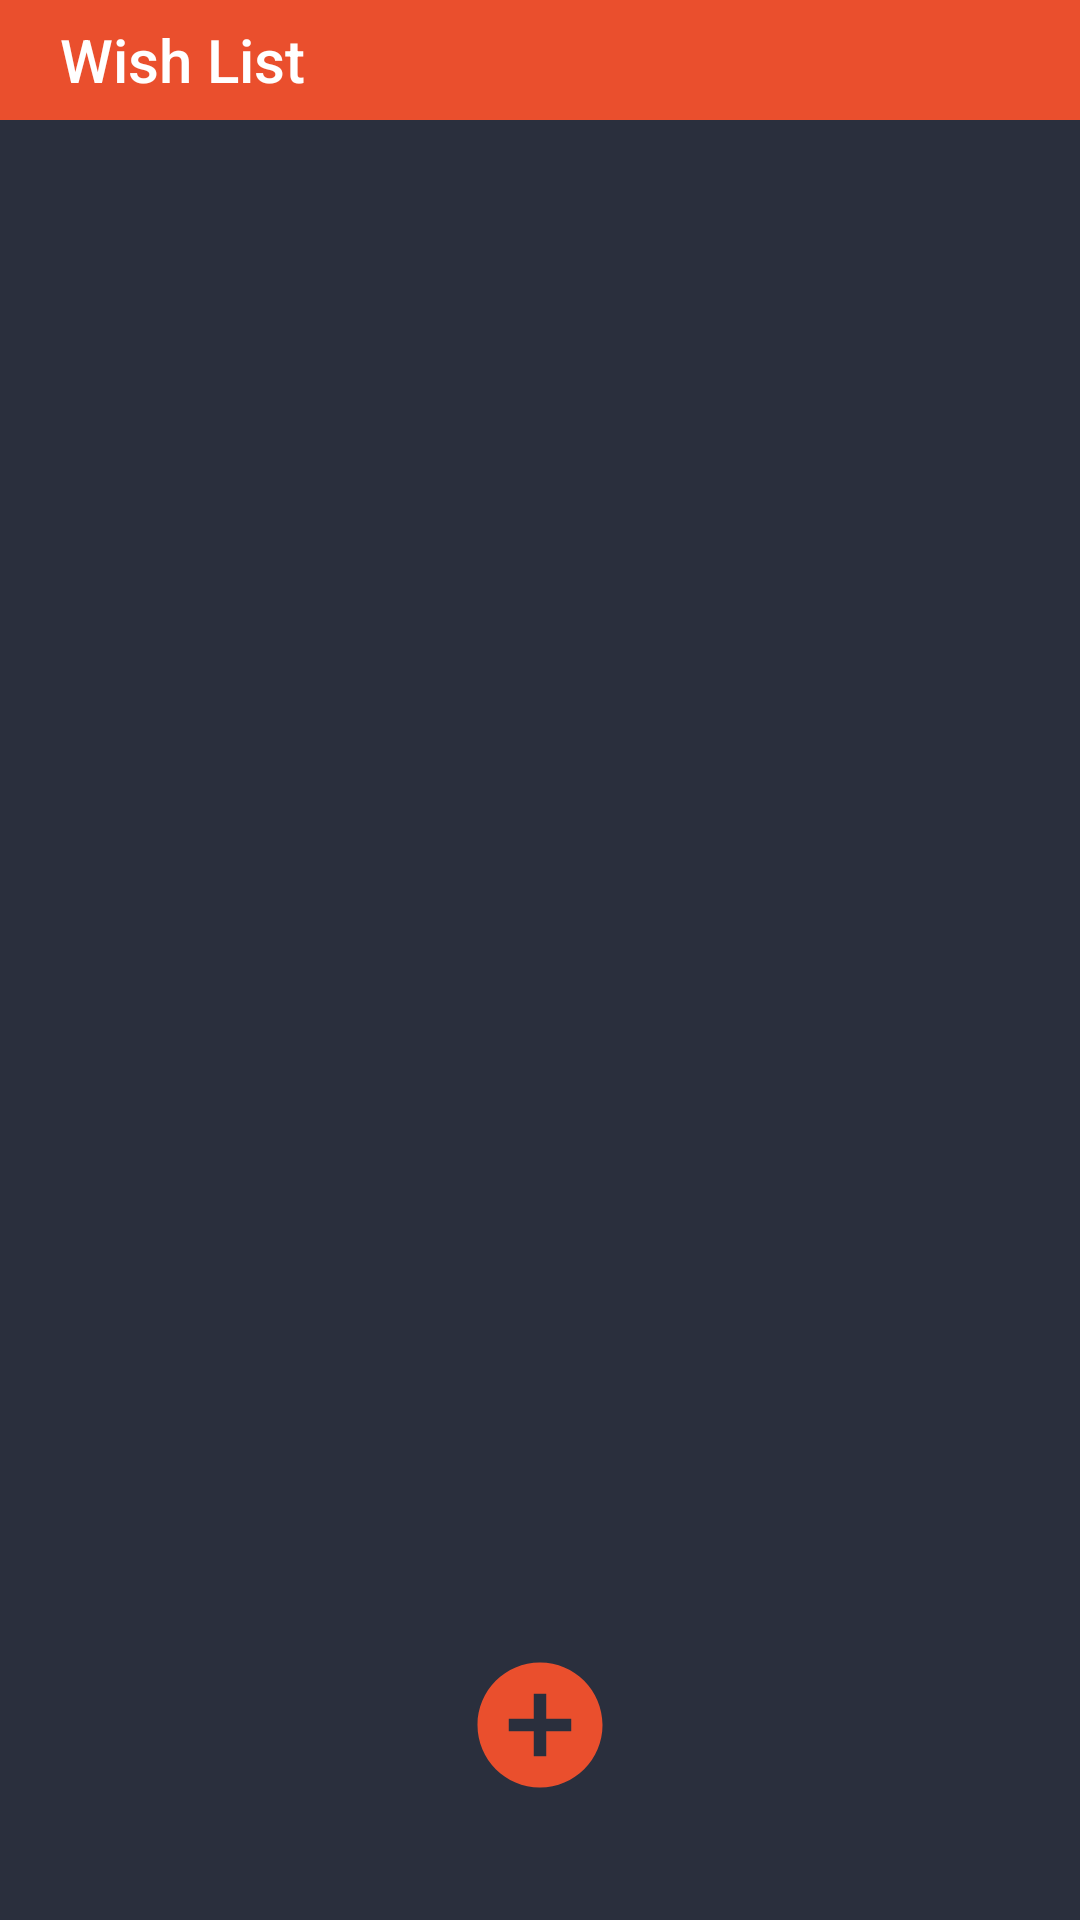

Icons on this 1080×1920 Android screen, each with its box as (x1, y1, x2, y2):
Adding new location to wish list: (477, 1662, 603, 1788)
